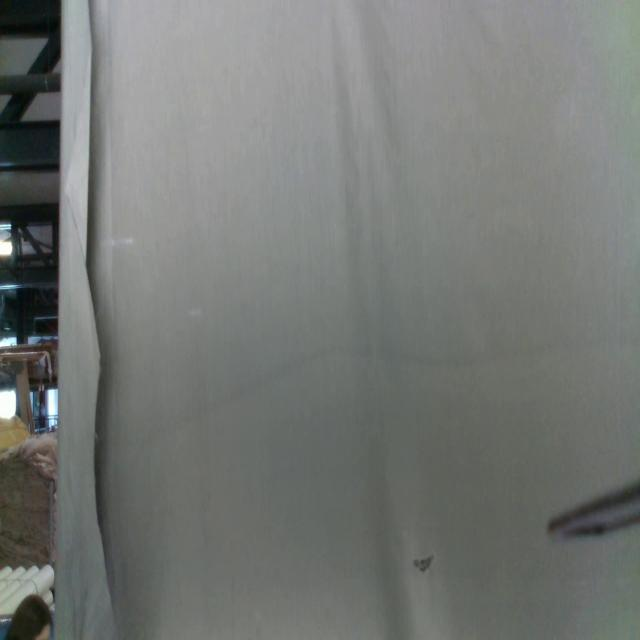hole: (413, 550, 436, 573)
